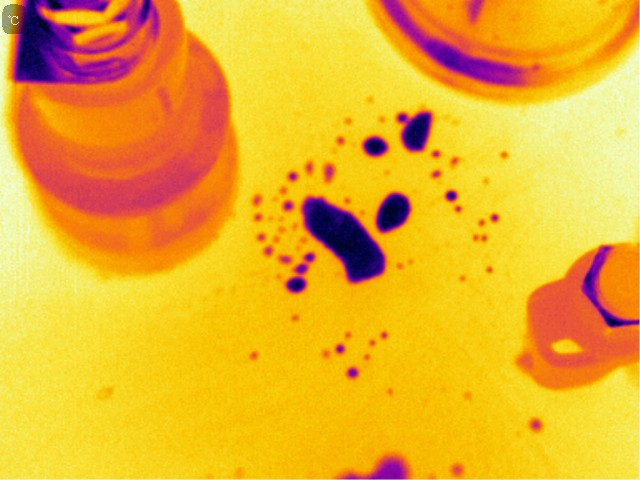Water: (301, 194, 388, 285), (328, 451, 413, 480), (471, 214, 501, 273), (398, 110, 434, 153), (376, 193, 411, 232), (286, 161, 336, 184), (433, 166, 460, 204), (276, 187, 305, 214), (294, 247, 323, 274), (276, 275, 312, 296), (361, 135, 389, 158), (340, 363, 363, 383), (449, 460, 473, 478), (246, 186, 265, 208), (272, 245, 291, 267), (528, 419, 548, 436), (336, 325, 357, 341), (244, 209, 265, 225), (329, 340, 349, 356), (257, 243, 278, 258), (373, 329, 390, 343), (253, 227, 268, 242), (384, 382, 393, 398)
